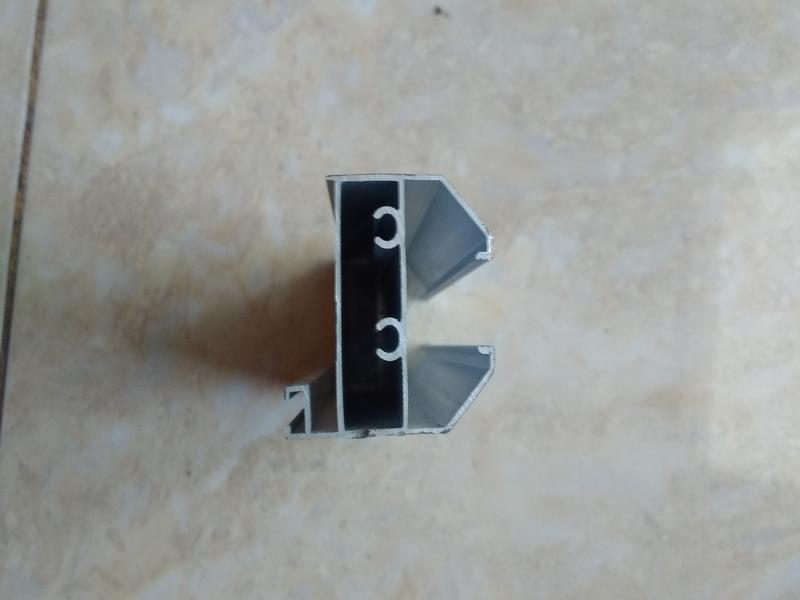Aluminium_3: (249, 155, 524, 449)
